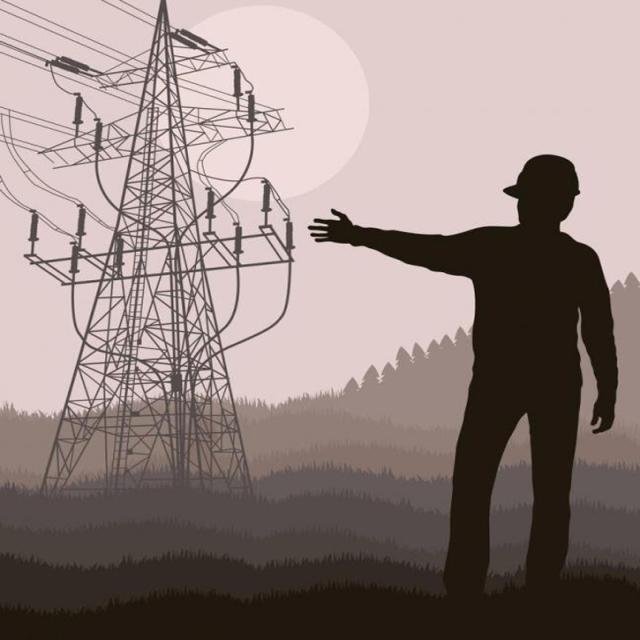non-critical vegetation: (67, 17, 321, 496)
